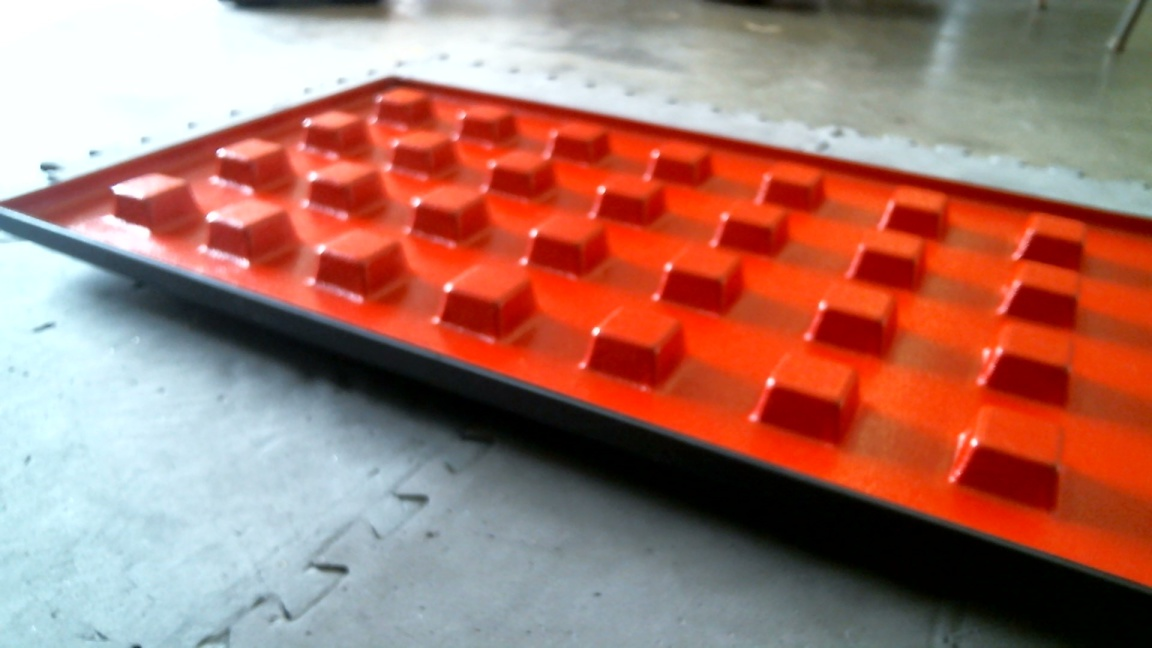red_foundation: (1, 73, 1149, 635)
